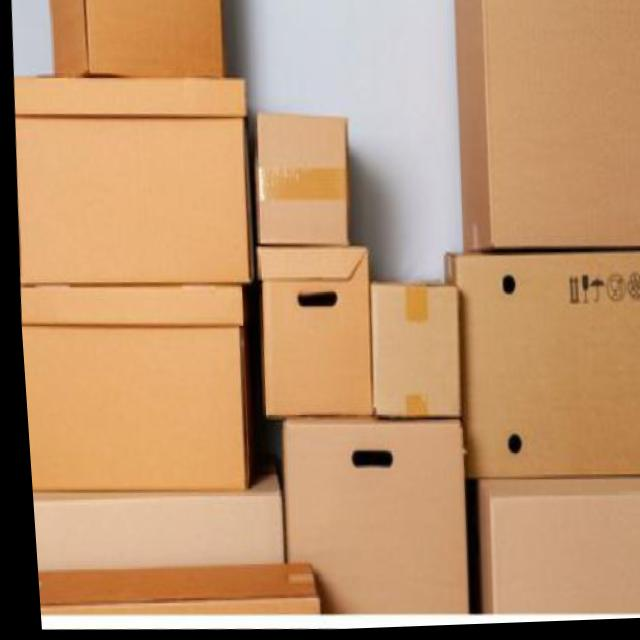box: (5, 66, 258, 297), (15, 275, 250, 505), (432, 240, 640, 496), (439, 0, 640, 259), (267, 414, 471, 623), (459, 477, 640, 623), (244, 241, 379, 425), (25, 479, 275, 567), (30, 558, 313, 626), (43, 0, 227, 89), (247, 113, 356, 250), (359, 283, 461, 417)
